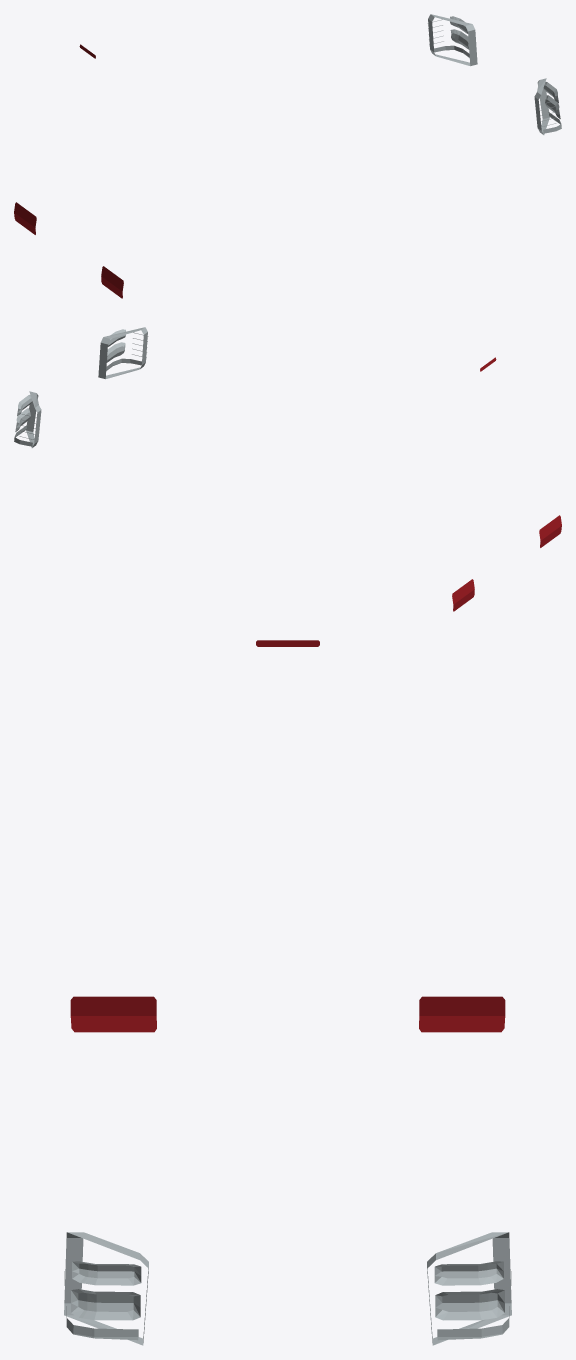
File: kei-every-da18v-a163746b-lamps.glb
3 renders of one model, top to bottom at view 1: azimuth 30°, elevation 25°; view 2: azimuth 150°, elevation 25°; view 3: azimuth 270°, elevation 25°, orthographic. The views are drawn at different scales.
Visible parts, largest first — view 1: Left_Tail_Lens, Right_Tail_Lens; view 2: Left_Tail_Lens, Right_Tail_Lens; view 3: Left_Tail_Lens, Right_Tail_Lens, Left_Reflector_1, Right_Reflector_1, Left_Reflector_0, Right_Reflector_0.
Part boxes in pixels (bbox=[...]): Left_Tail_Lens: bbox=[14, 202, 36, 234]; Right_Tail_Lens: bbox=[101, 266, 123, 298]; Left_Tail_Lens: bbox=[452, 579, 474, 611]; Right_Tail_Lens: bbox=[539, 515, 561, 547]; Left_Tail_Lens: bbox=[419, 996, 505, 1032]; Right_Tail_Lens: bbox=[70, 996, 156, 1032]; Left_Reflector_1: bbox=[435, 1289, 504, 1320]; Right_Reflector_1: bbox=[71, 1289, 140, 1320]; Left_Reflector_0: bbox=[434, 1261, 503, 1285]; Right_Reflector_0: bbox=[72, 1261, 141, 1285].
Bounding box in the file's own units: 3.34 × 1.47 × 1.46.
